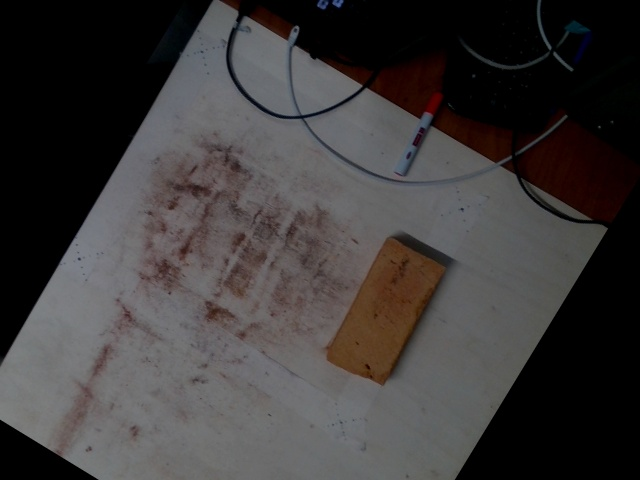brick: (328, 237, 445, 383)
